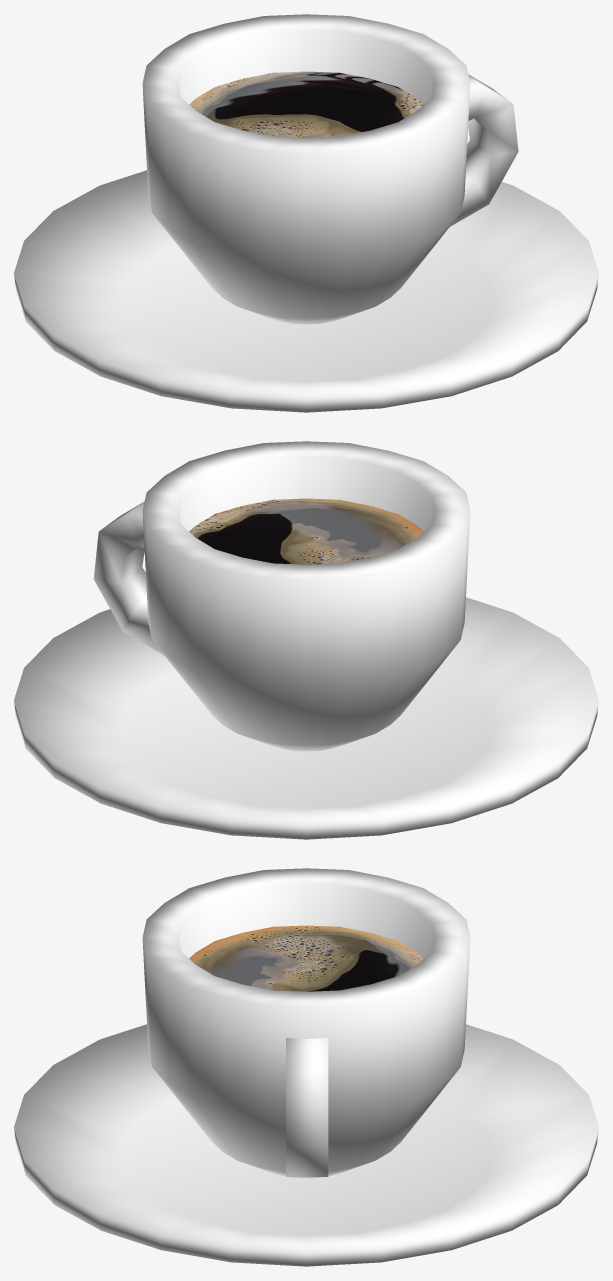
Rendered from espresso.obj.
3 renders of one model, top to bottom at view 1: azimuth 30°, elevation 25°; view 2: azimuth 150°, elevation 25°; view 3: azimuth 270°, elevation 25°, orthographic.
Visible parts, largest first — view 1: coffee_blackEsspresso_03, coffee_blackEsspresso_02, coffee_blackEsspresso_01; view 2: coffee_blackEsspresso_03, coffee_blackEsspresso_02, coffee_blackEsspresso_01; view 3: coffee_blackEsspresso_03, coffee_blackEsspresso_02, coffee_blackEsspresso_01.
Boxes of the visible parts, x1,y1,x2,y2 form: coffee_blackEsspresso_03: (14, 170, 598, 412); coffee_blackEsspresso_02: (142, 14, 518, 324); coffee_blackEsspresso_01: (189, 71, 423, 137); coffee_blackEsspresso_03: (14, 597, 598, 839); coffee_blackEsspresso_02: (93, 441, 470, 751); coffee_blackEsspresso_01: (189, 498, 423, 564); coffee_blackEsspresso_03: (14, 1024, 598, 1266); coffee_blackEsspresso_02: (142, 868, 470, 1178); coffee_blackEsspresso_01: (189, 925, 423, 991).
Size of the model in its own units: 0.1147 by 0.0516 by 0.1147.
1 material, 1 textured.
